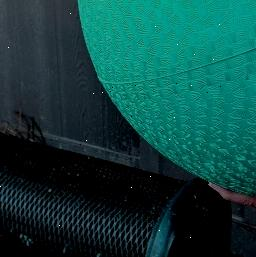algae: (74, 0, 256, 181)
